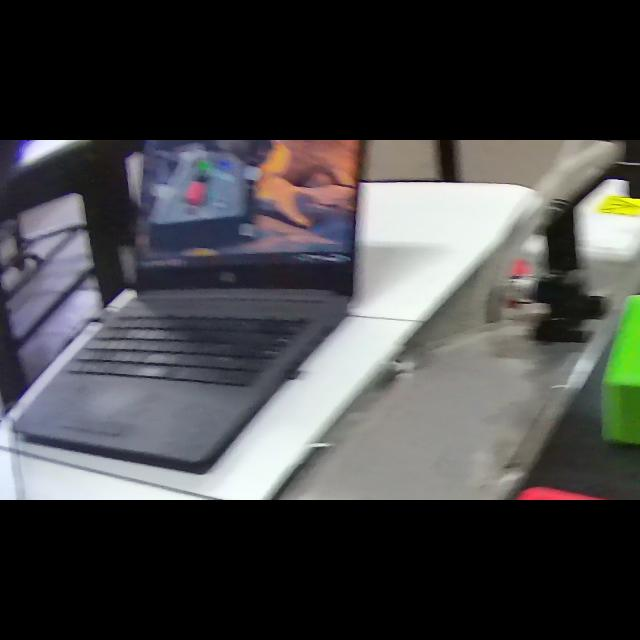greenBox: (596, 284, 640, 454)
redBox: (432, 480, 640, 500)
